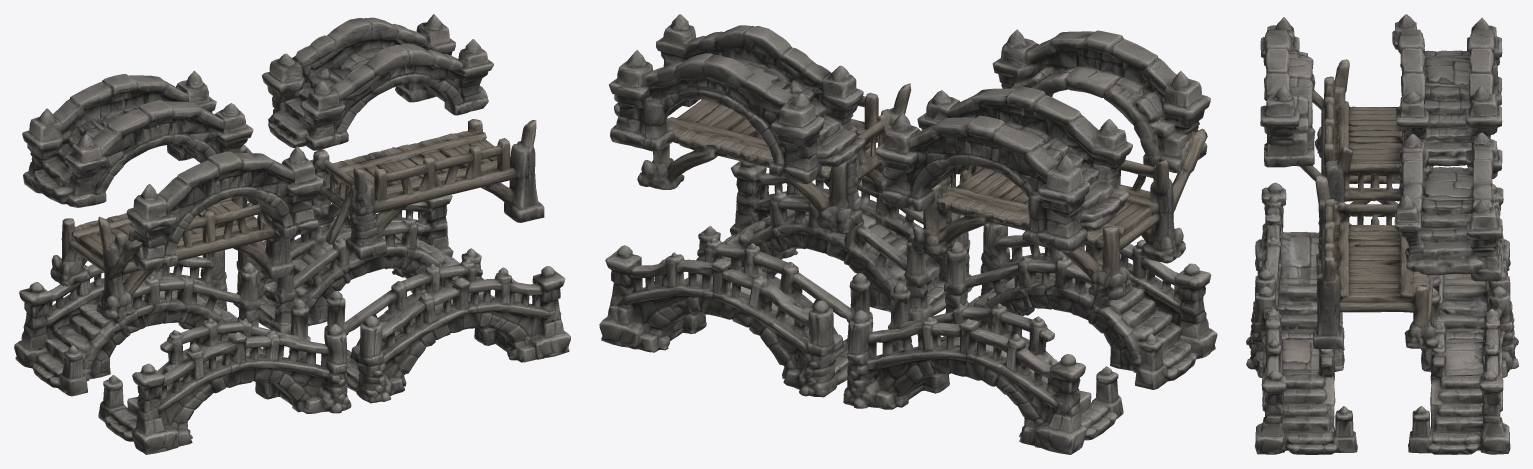
File: bridges_of_stone.glb
3 views of the same model, side by side, from view 1: azimuth 30°, elevation 25°; view 2: azimuth 150°, elevation 25°; view 3: azimuth 270°, elevation 25° (orthographic). The views are drawn at different scales.
Size of the model in its own units: 1.9 by 1.11 by 1.07.
Materials: 1 (1 with a texture image).
